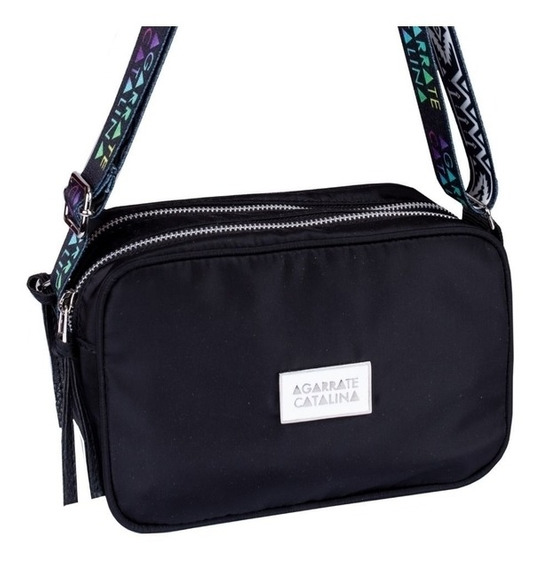cartera: (20, 21, 518, 536)
